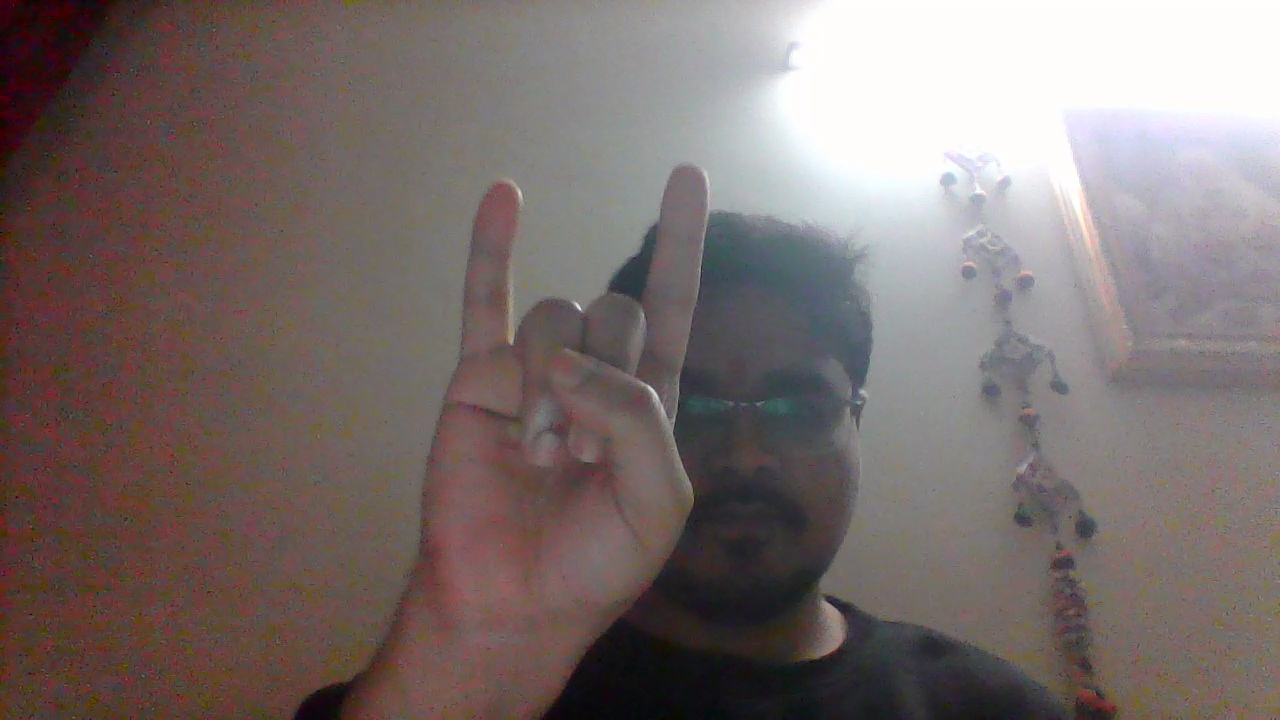ILoveYou: (409, 162, 715, 704)
